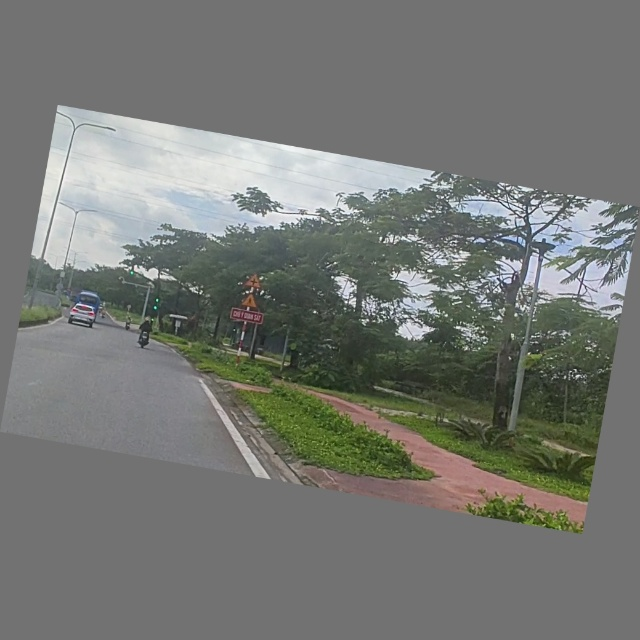W.205a: (244, 272, 264, 290)
W.224: (240, 292, 262, 312)
